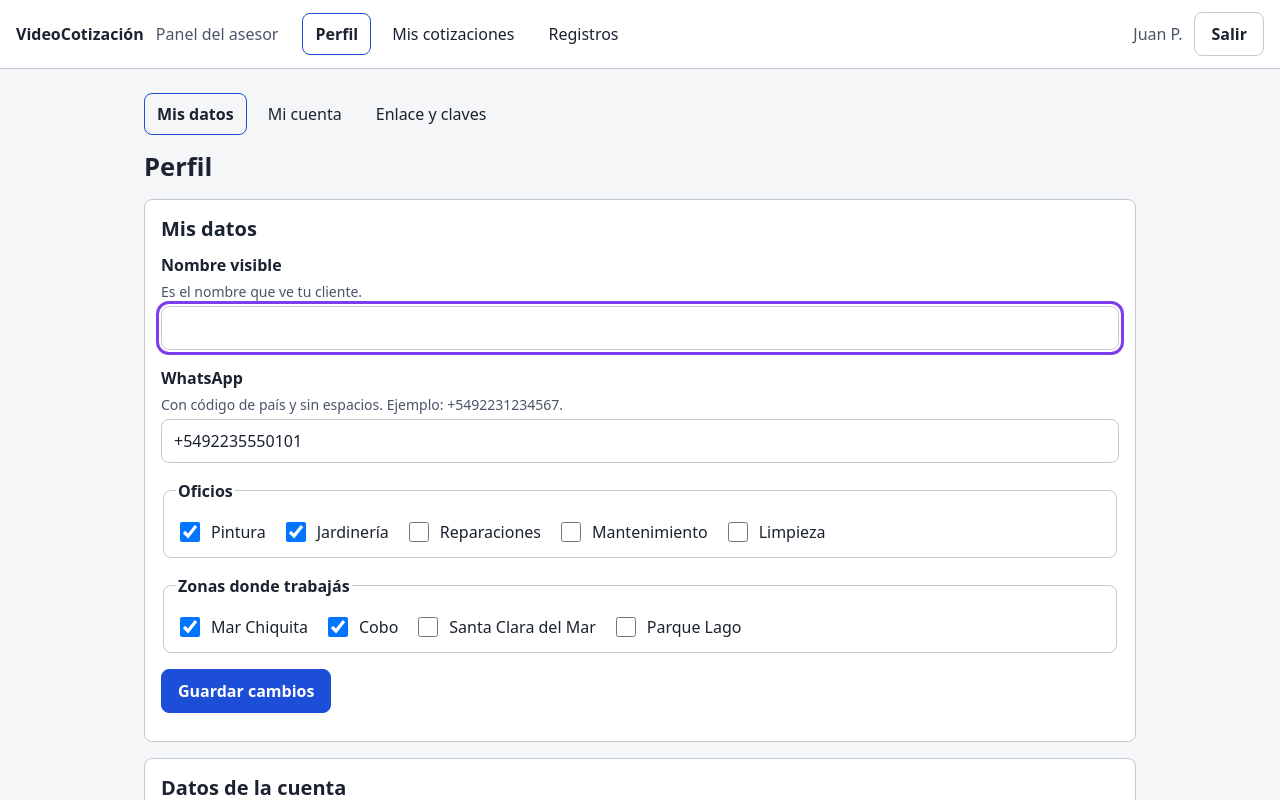
Scenario: sesión del panel › al recargar recupera el CSRF del servidor: las escrituras funcionan
Earlier steps of the test are not shown.
Type "Juan Pérez" into the field labelled "Nombre visible" at x=640, y=328, box [161, 306, 1119, 350]
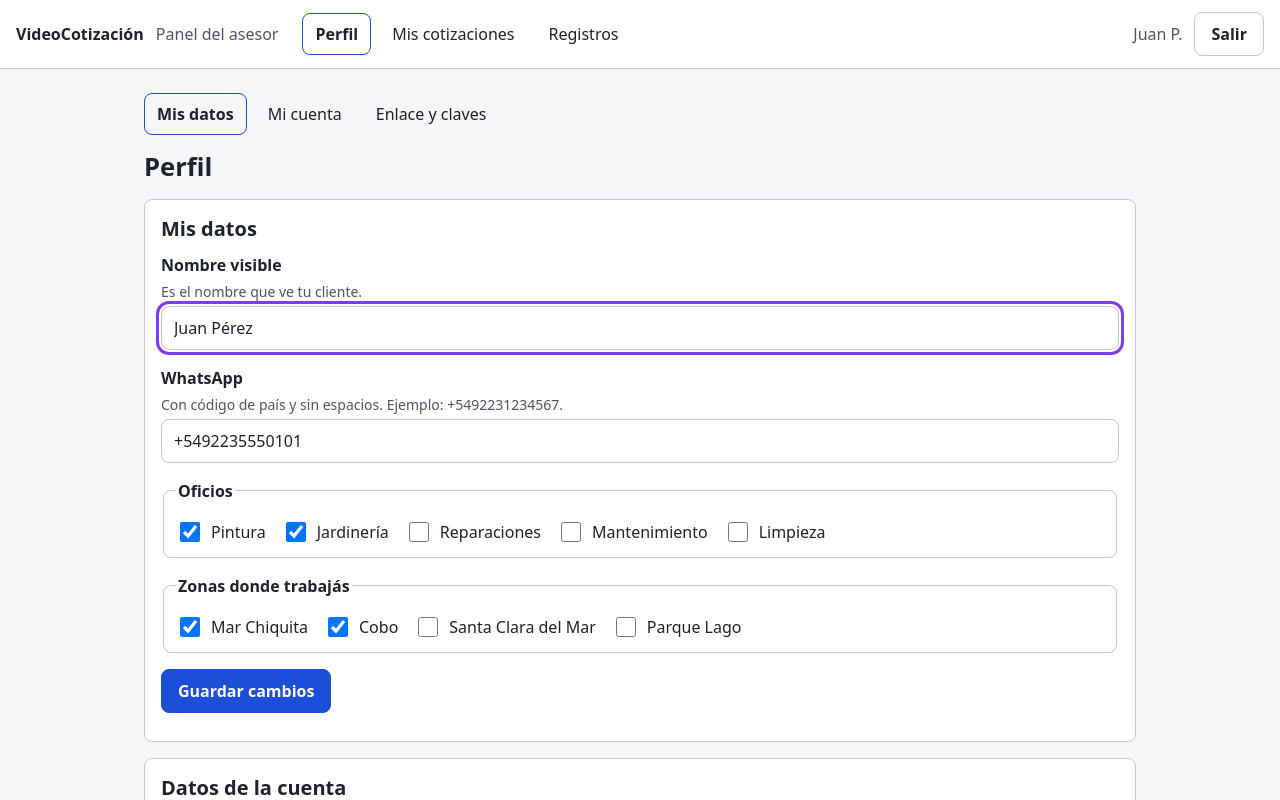
Click the button "Guardar cambios" at x=246, y=691, box [161, 669, 331, 713]
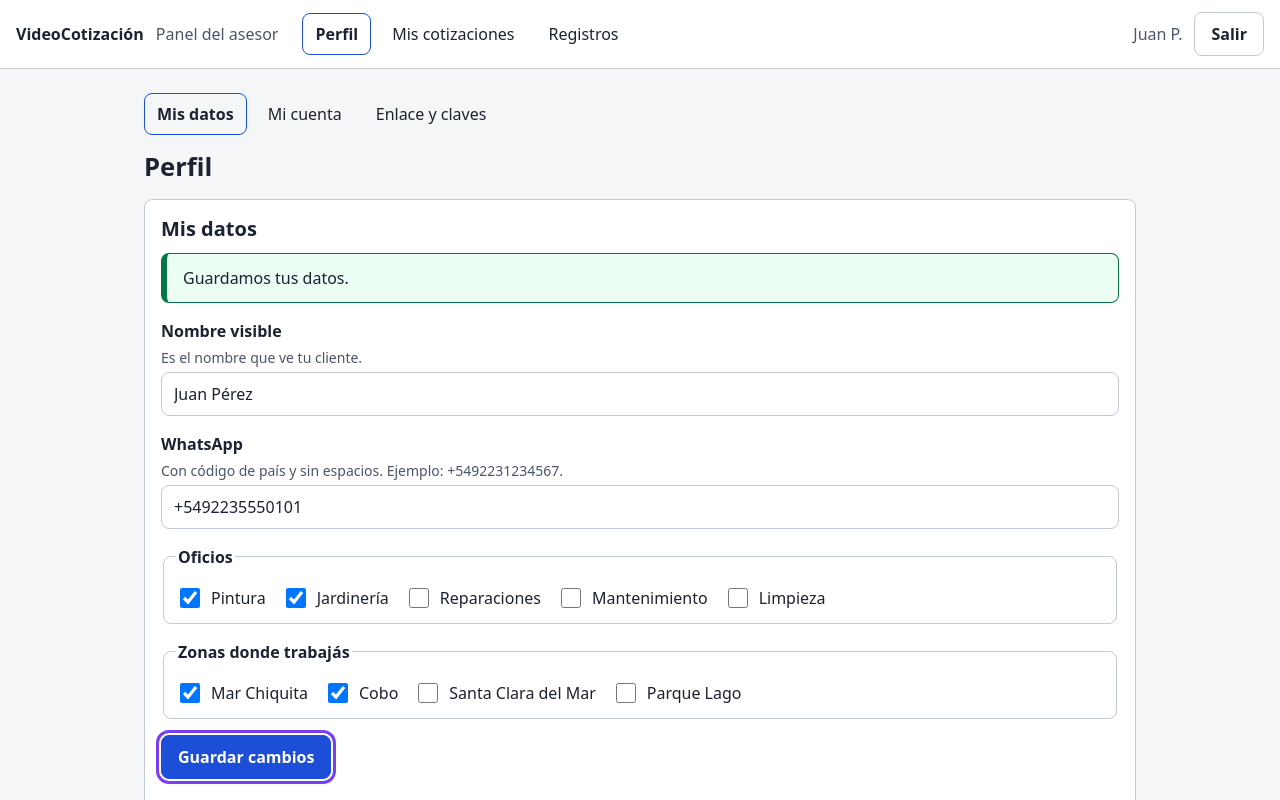
Expected: the text "Guardamos tus datos." is shown, [183, 267, 349, 289]
